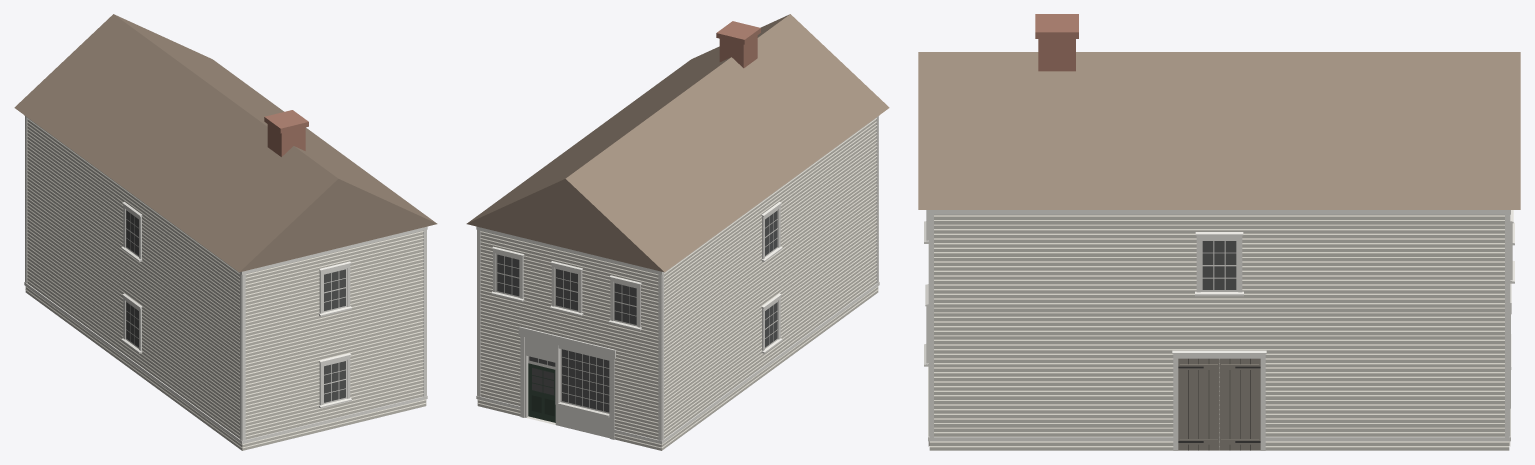
The model's file is recon_1835_north_c3_064__inferred_1835.glb.
The picture shows the model from 3 angles, left to right: view 1: azimuth 30°, elevation 25°; view 2: azimuth 150°, elevation 25°; view 3: azimuth 270°, elevation 25°; orthographic projection. The views are drawn at different scales.
Visible parts, largest first — view 1: recon_1835_north_c3_064__inferred_1835; view 2: recon_1835_north_c3_064__inferred_1835; view 3: recon_1835_north_c3_064__inferred_1835.
Boxes of the visible parts, x1,y1,x2,y2 form: recon_1835_north_c3_064__inferred_1835: [14, 14, 437, 450]; recon_1835_north_c3_064__inferred_1835: [466, 14, 889, 450]; recon_1835_north_c3_064__inferred_1835: [918, 14, 1520, 450].
Bounding box in the file's own units: 6.87 × 9.07 × 13.49.
